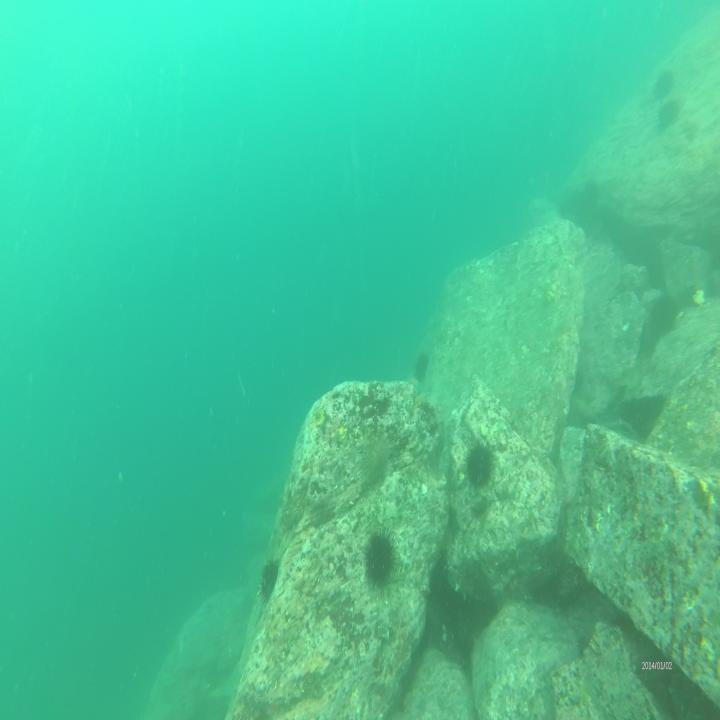echinus: (358, 529, 400, 593), (464, 439, 500, 497), (256, 550, 282, 608), (656, 97, 681, 136), (652, 74, 674, 103), (414, 350, 431, 387)
